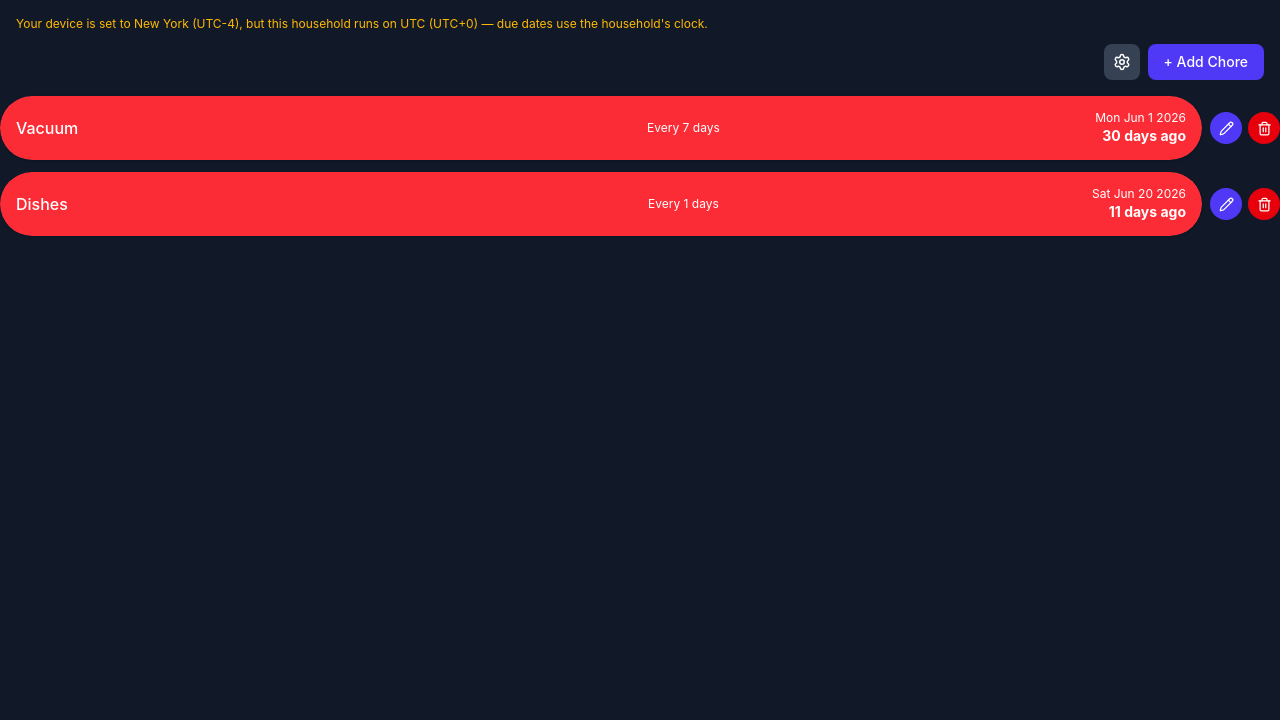
Test: ChoresView › edits an existing chore via the edit-chore form, sending its current version
Expected: the text "Vacuum" is shown, [16,118,78,138]
Click the button named "Edit chore" next to "Mon Jun 1 2026". click: (1226, 128)
box: [1210,112,1242,144]
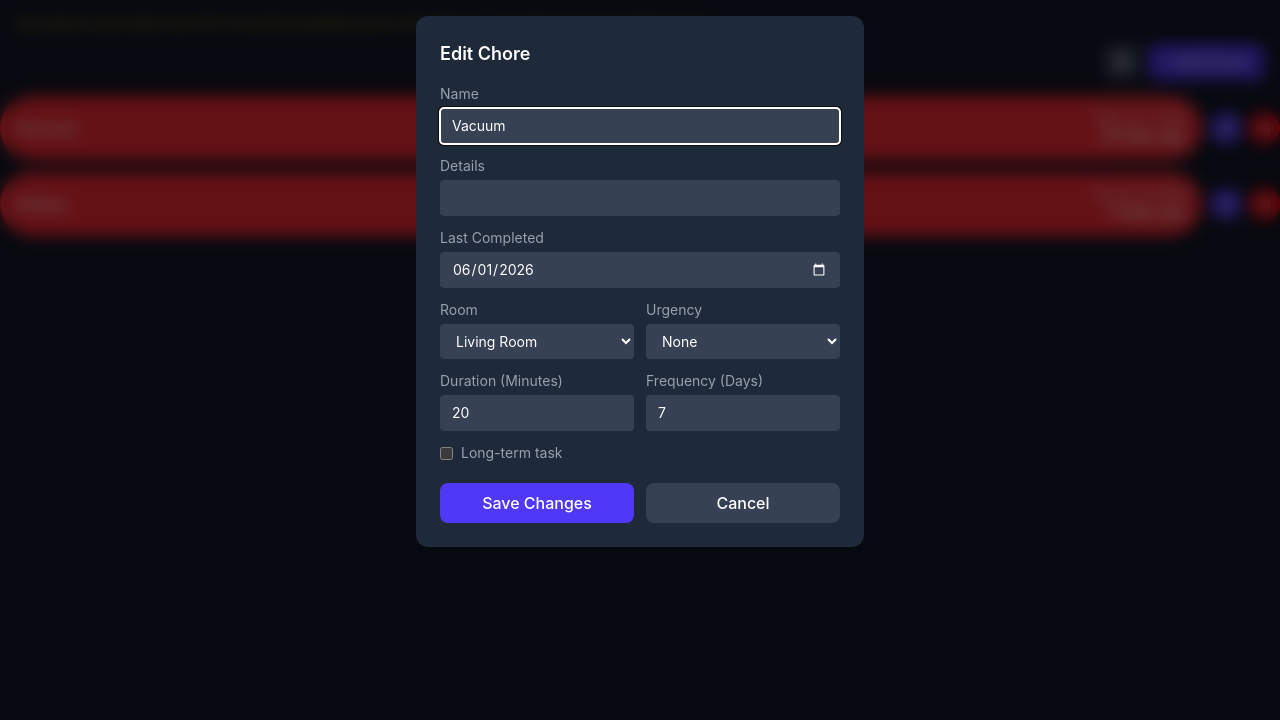
Now the field labelled "Name" holds "Vacuum"
Replace the text in the field labelled "Name" with "Vacuum Deluxe". click: (640, 126)
box: [440,108,840,144]
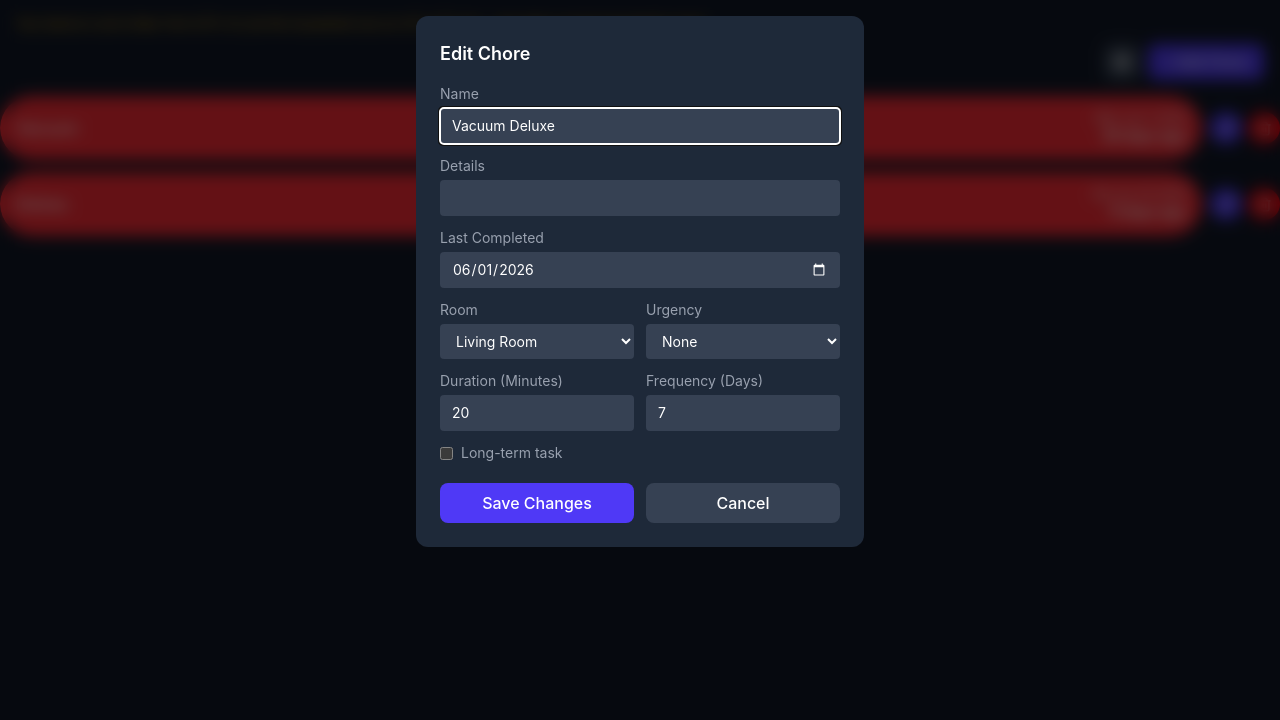
Click the button "Save Changes". click: (537, 503)
box: [440,483,634,523]
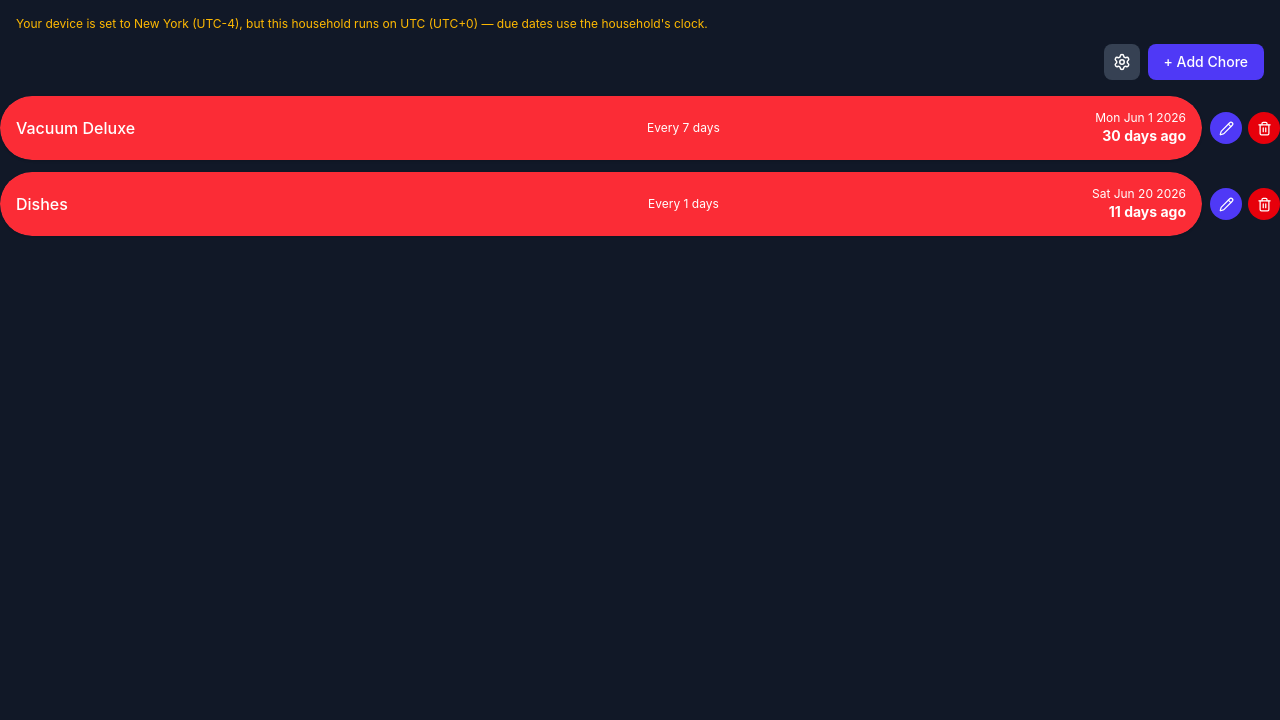
Now the text "Vacuum Deluxe" is shown, box [16,118,135,138]
